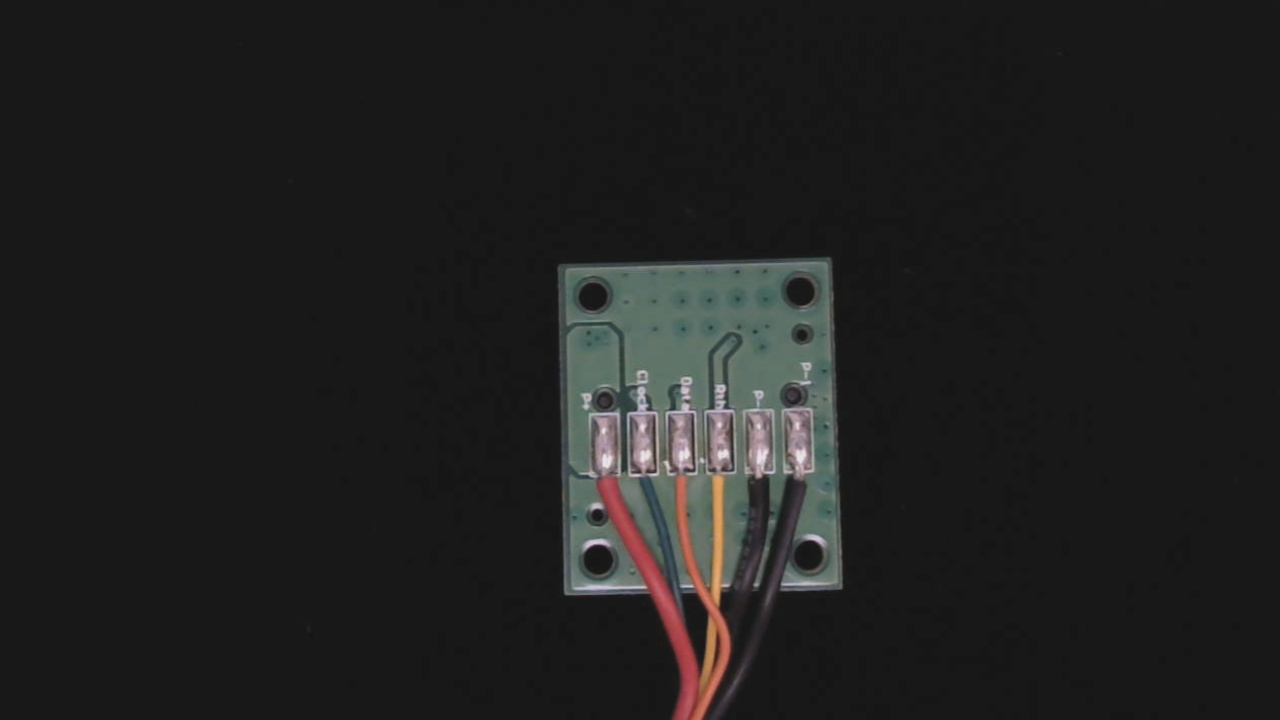Black: (742, 453, 776, 527)
Black1: (786, 453, 820, 521)
Green: (626, 460, 662, 511)
Orange: (665, 457, 697, 530)
Red: (588, 455, 622, 526)
Yellow: (702, 456, 737, 531)
